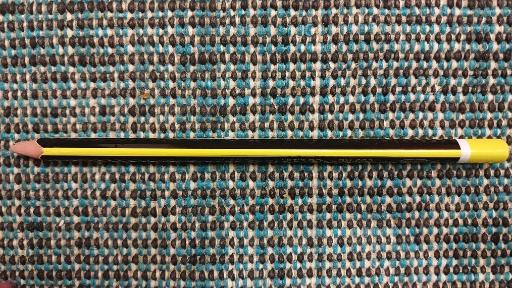Pencil: (8, 139, 512, 166)
